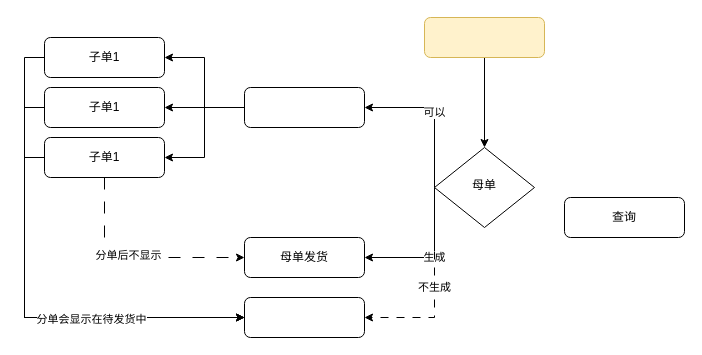
The diagram is 702 pixels wide and 355 high, and some of its shapes have lost their labels. Here are the shapes that lost their labels. From the top down, the centre of each, then its label:
At (484,37): "下单".
At (304,107): "JIT母单".
At (304,317): "待发货".
